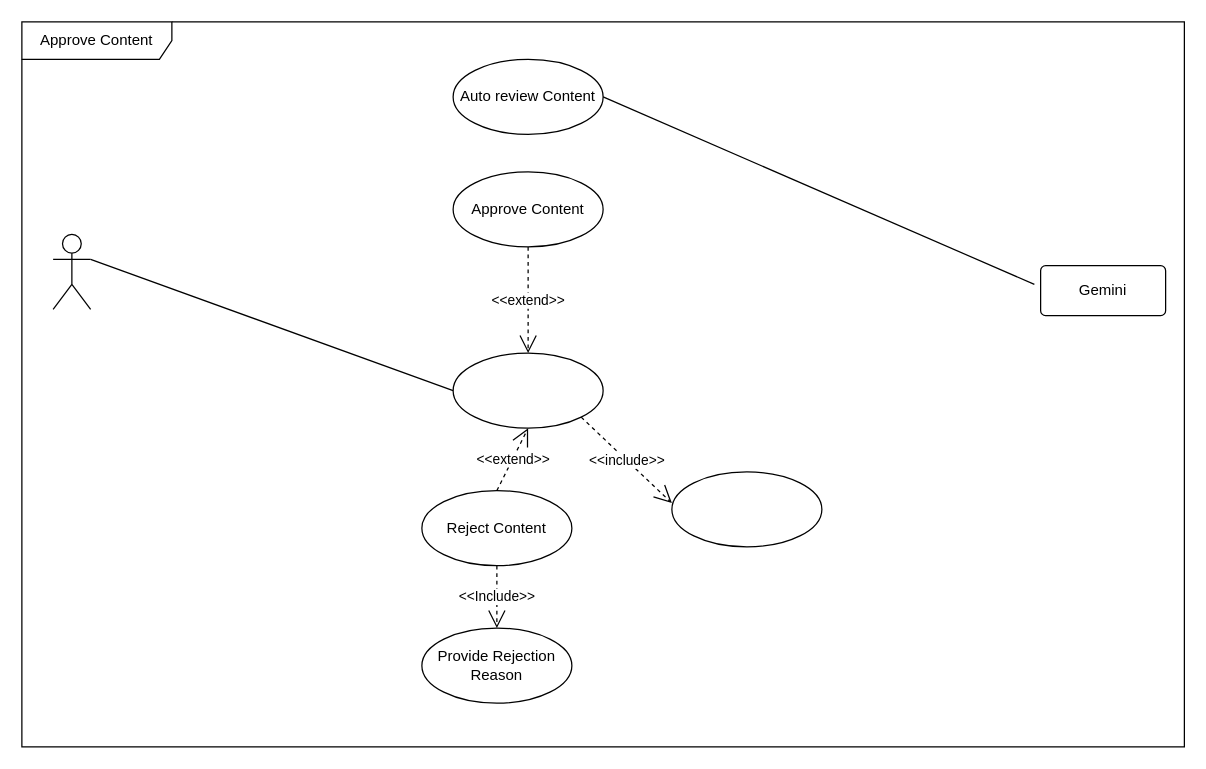
This 1206x769 diagram has some shape labels left out. Here are the shapes that lost their labels. From the top down, the box of each, then its label:
(52, 233, 91, 309): Super Admin
(452, 352, 603, 428): Review Content
(671, 471, 822, 547): Authenticate
